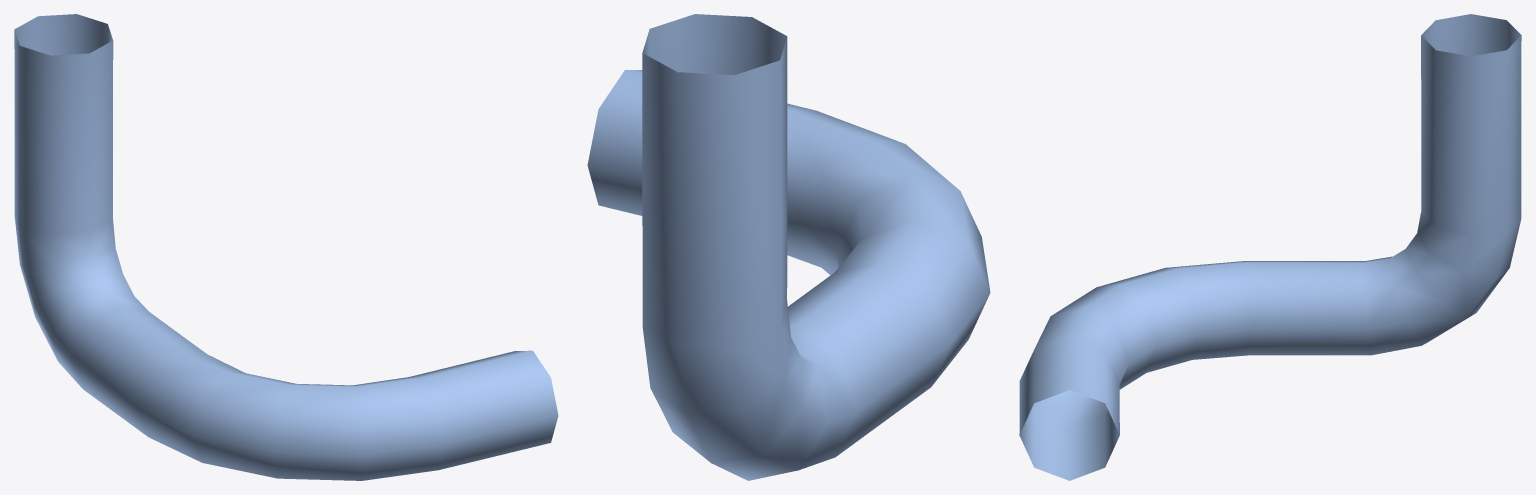
The model's file is PipeSmall_BentSpecial_04.fbx.
3 views of the same model, side by side, from view 1: azimuth 30°, elevation 25°; view 2: azimuth 150°, elevation 25°; view 3: azimuth 270°, elevation 25° (orthographic). The views are drawn at different scales.
Parts seen in each view (by area): view 1: PipeSmall_BentSpecial_04.001; view 2: PipeSmall_BentSpecial_04.001; view 3: PipeSmall_BentSpecial_04.001.
Boxes of the visible parts, box(x1,y1,x2,y2) form: PipeSmall_BentSpecial_04.001: box(14, 14, 558, 480); PipeSmall_BentSpecial_04.001: box(587, 14, 990, 480); PipeSmall_BentSpecial_04.001: box(1019, 14, 1521, 480).
Bounding box in the file's own units: 0.35 × 0.35 × 0.5.
